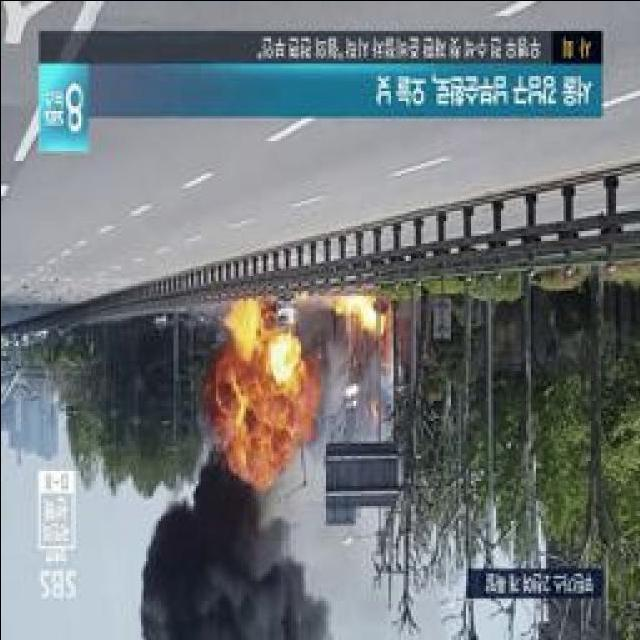Fire: (204, 332, 316, 442), (210, 442, 298, 476), (335, 292, 388, 331), (219, 298, 268, 329)
